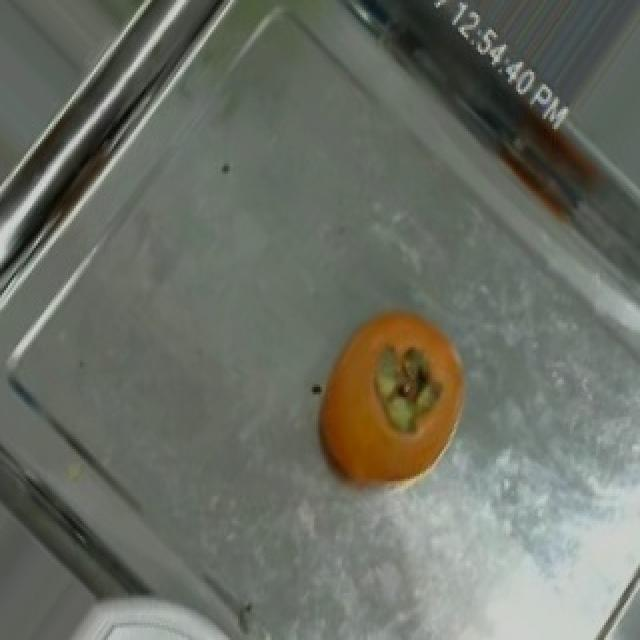Fruit: (294, 288, 490, 513)
